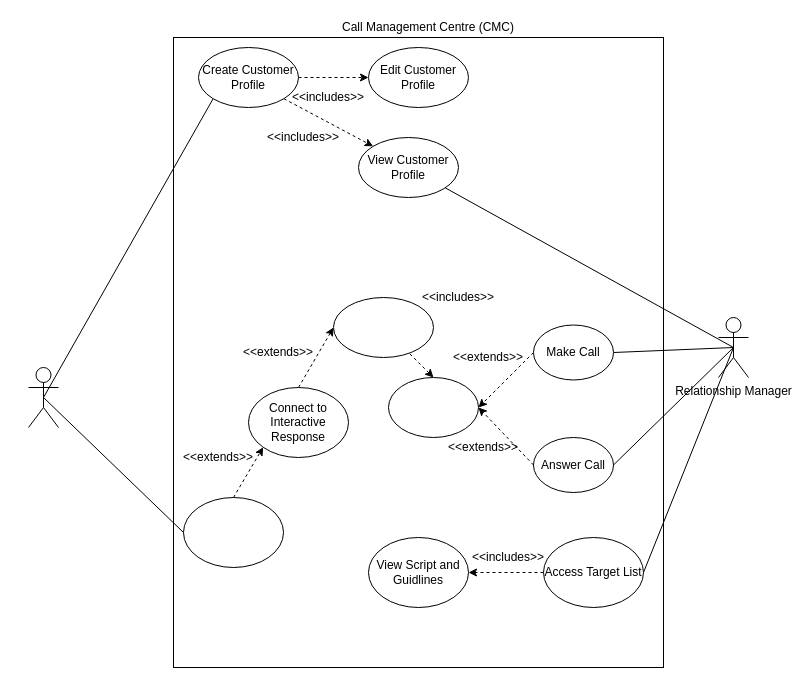
The diagram is 809 pixels wide and 685 high, and some of its shapes have lost their labels. The centre of each missing label's shape, as x and y in pixels:
"Call Travel Company" goes at point 233,532.
"Connects to Call" goes at point 433,407.
"Customer" goes at point 43,397.
"Identify Customer" goes at point 383,327.
